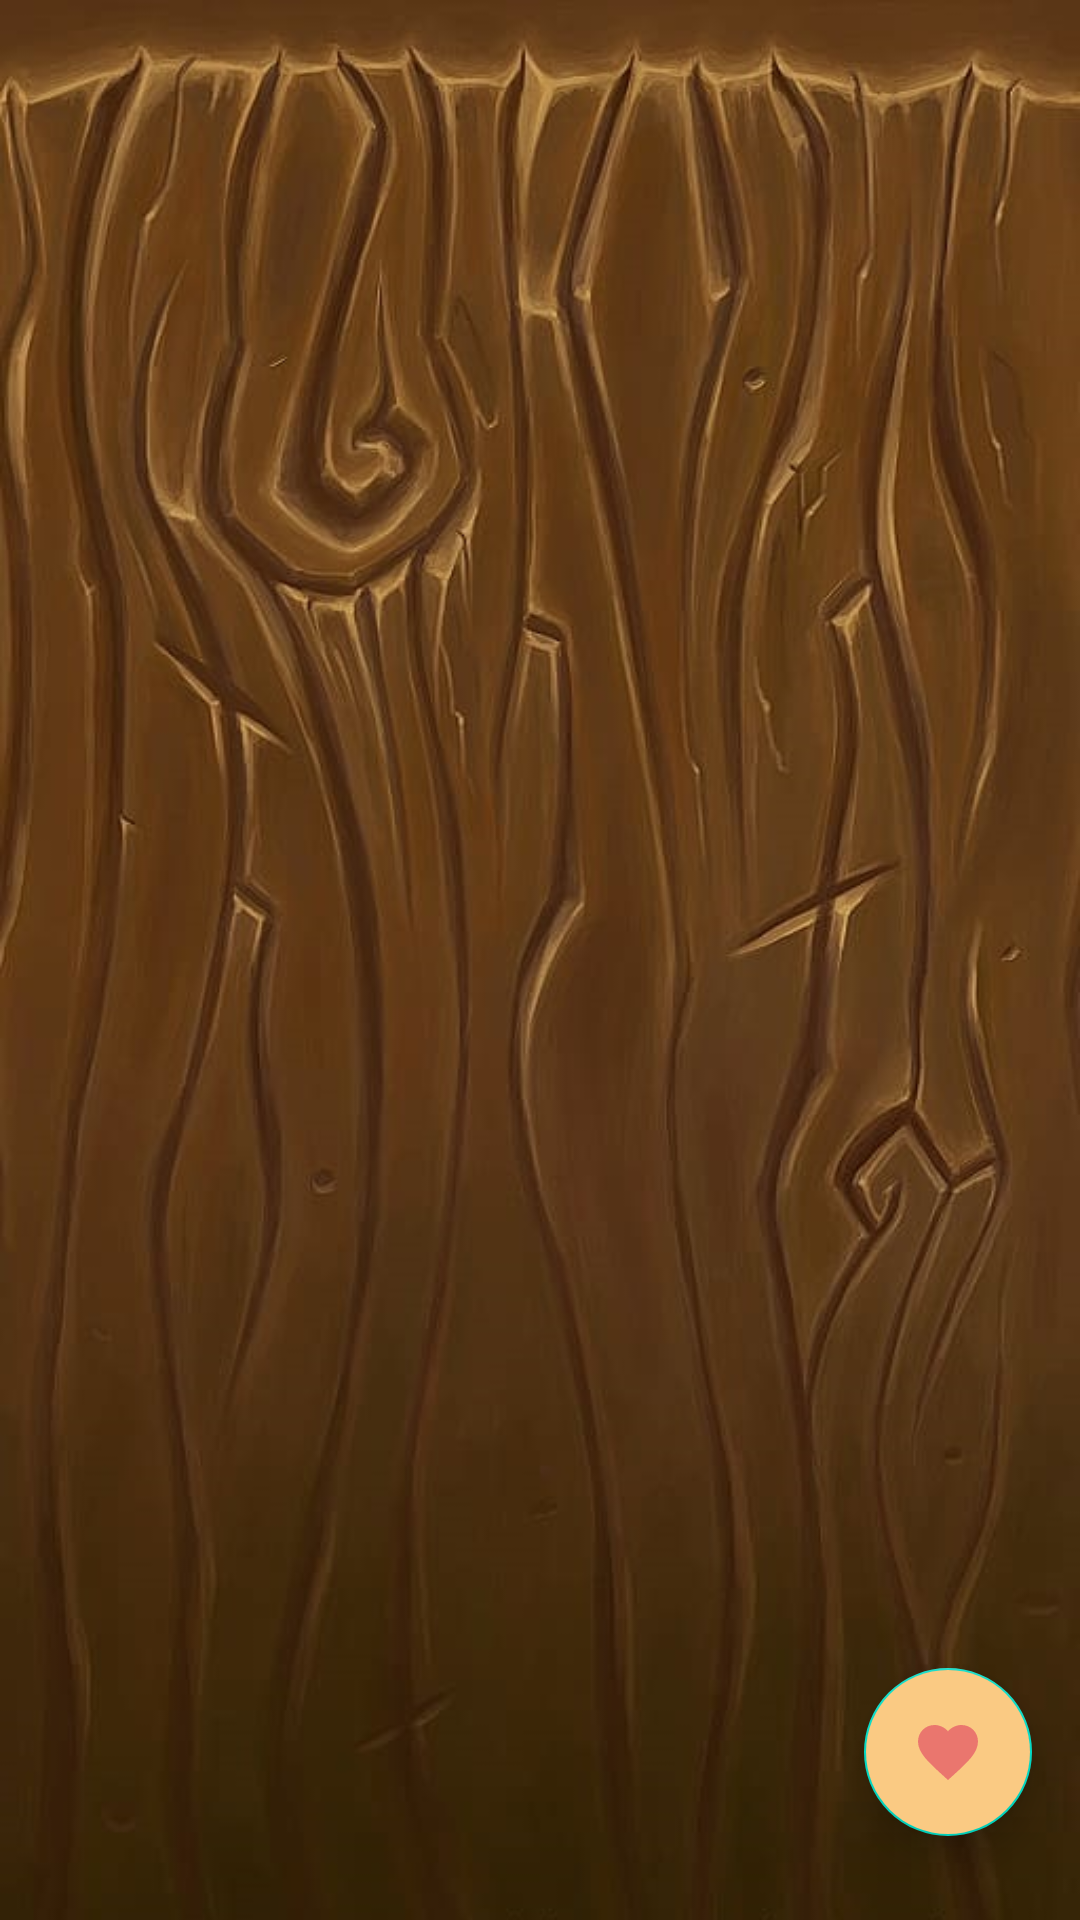

Screen size 1080w x 1920h. Icon name, then its box in pixels as (x1, y1, x2, y2):
fav brown: (864, 1668, 1032, 1836)
